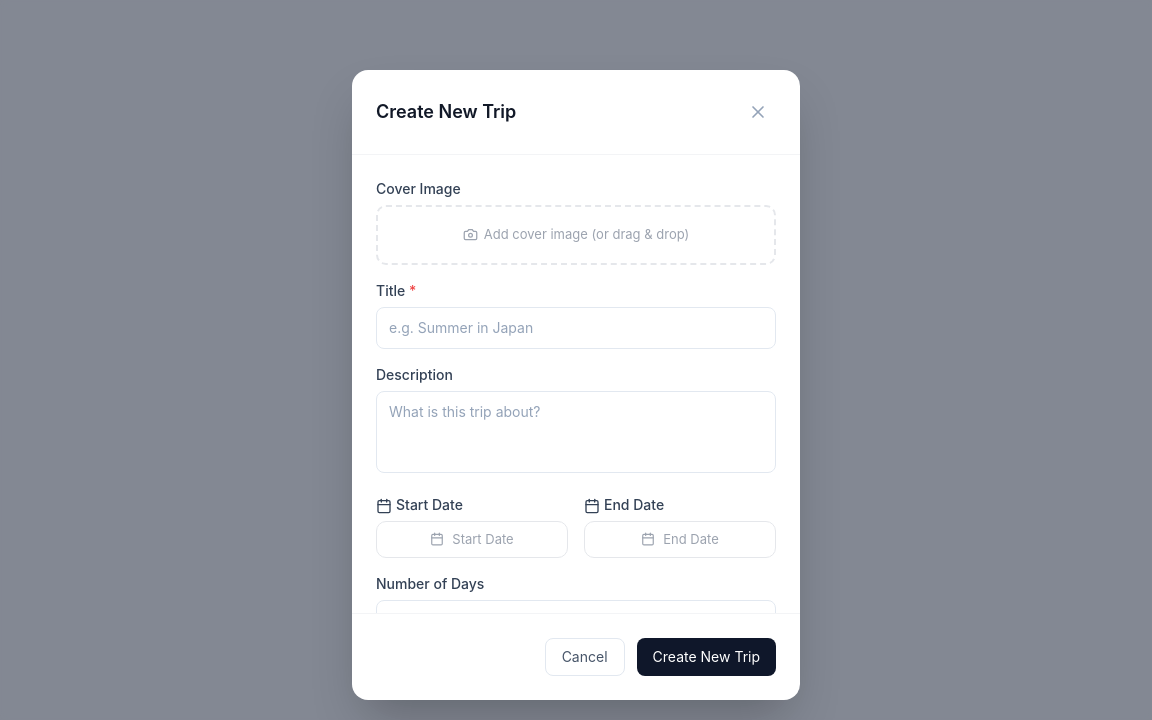
Test case: TripFormModal › FE-COMP-TRIPFORM-028: loading spinner shown while submitting
In the field with placeholder "e.g. Summer in Japan": (576, 328) [376,306,776,348], type "My Trip"
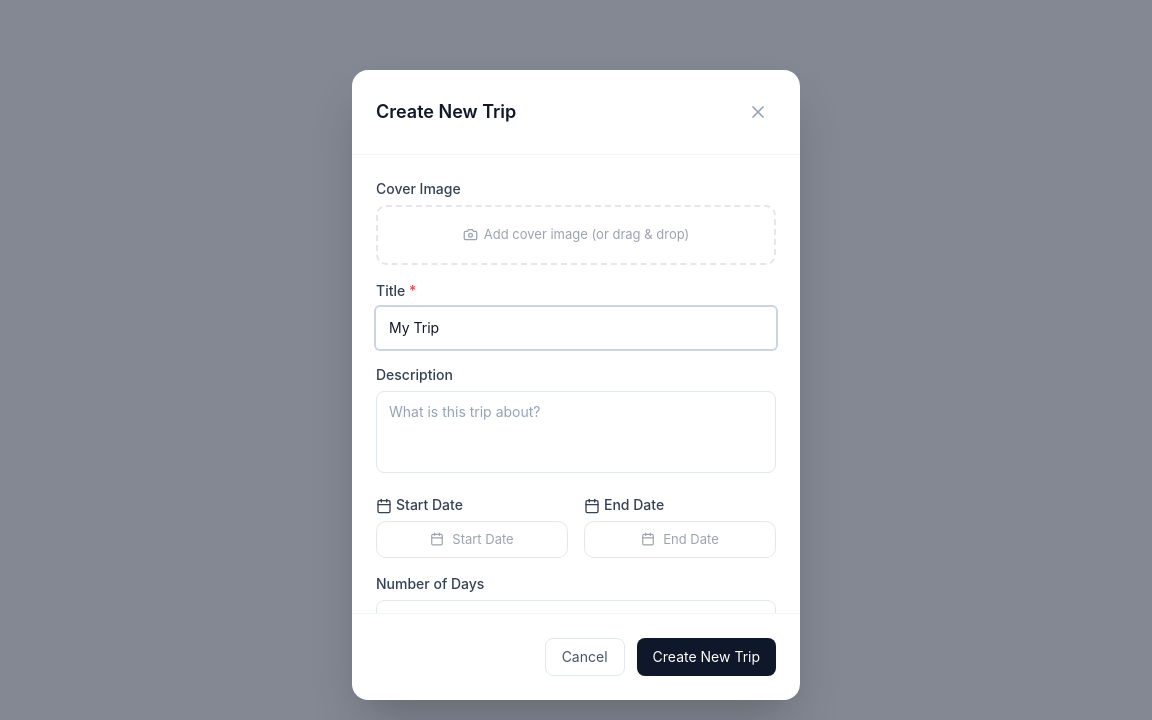
Click the button "Create New Trip": (706, 657) [637,638,776,676]
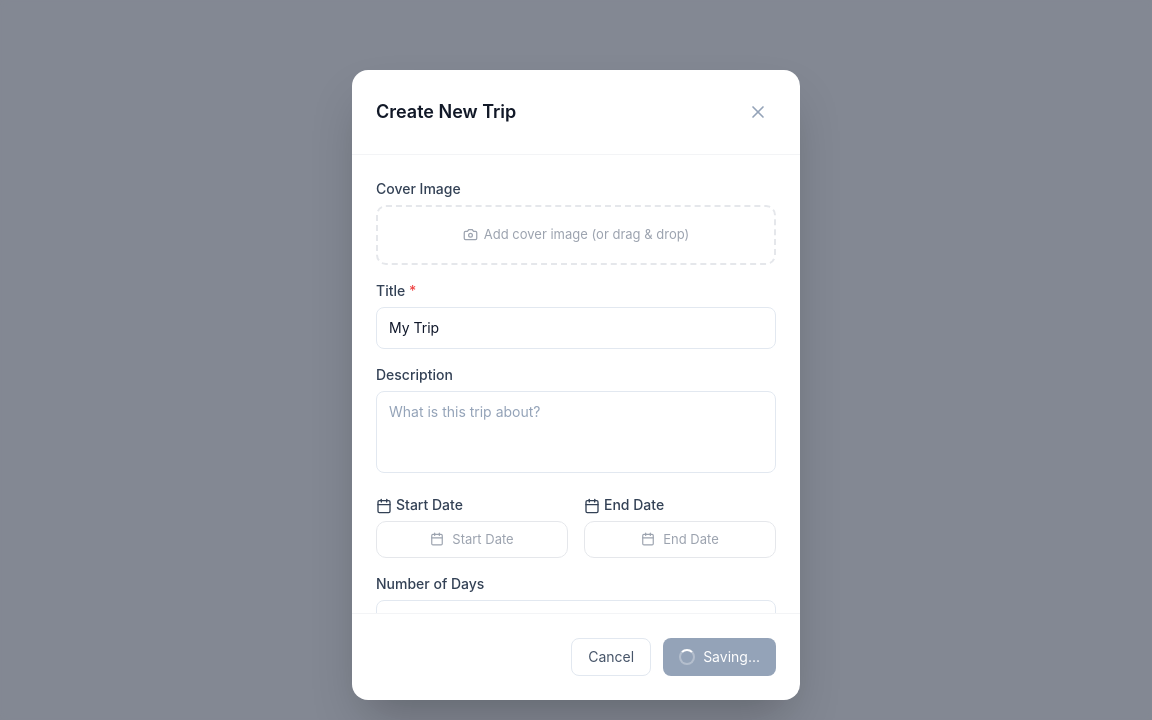
Result: the button "Saving..." is shown at [663,638,776,676]
